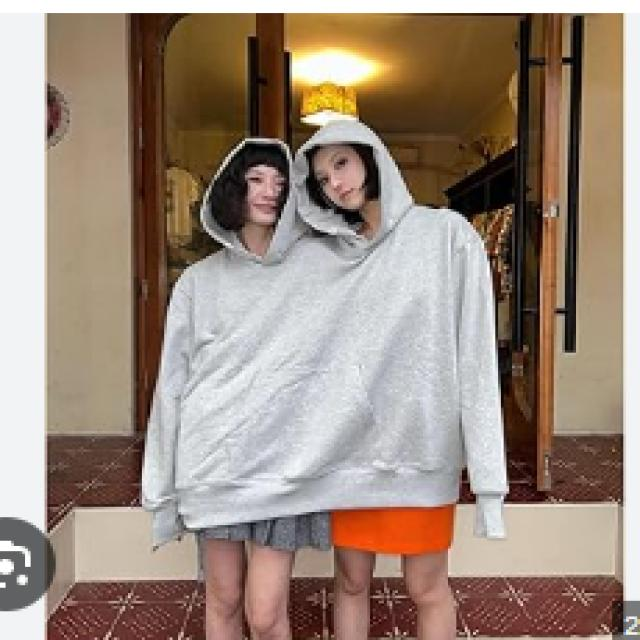4_capucha: (292, 117, 418, 262)
